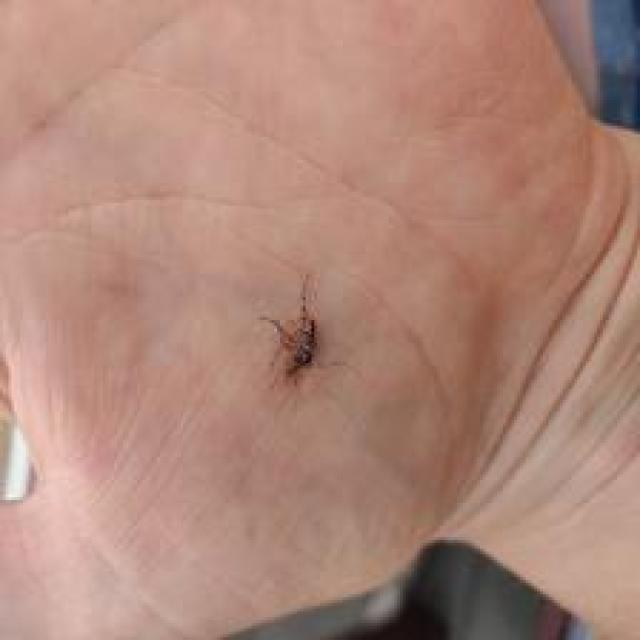Aedes albopictus: (258, 273, 322, 384)
